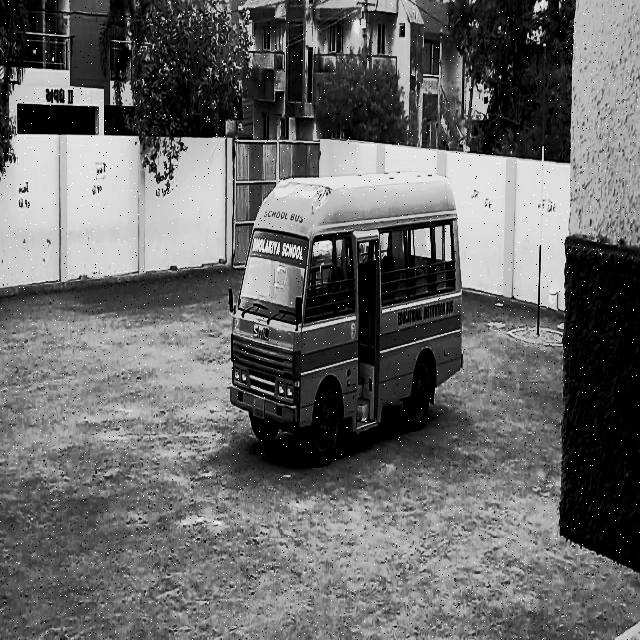Bus: (226, 167, 474, 476)
